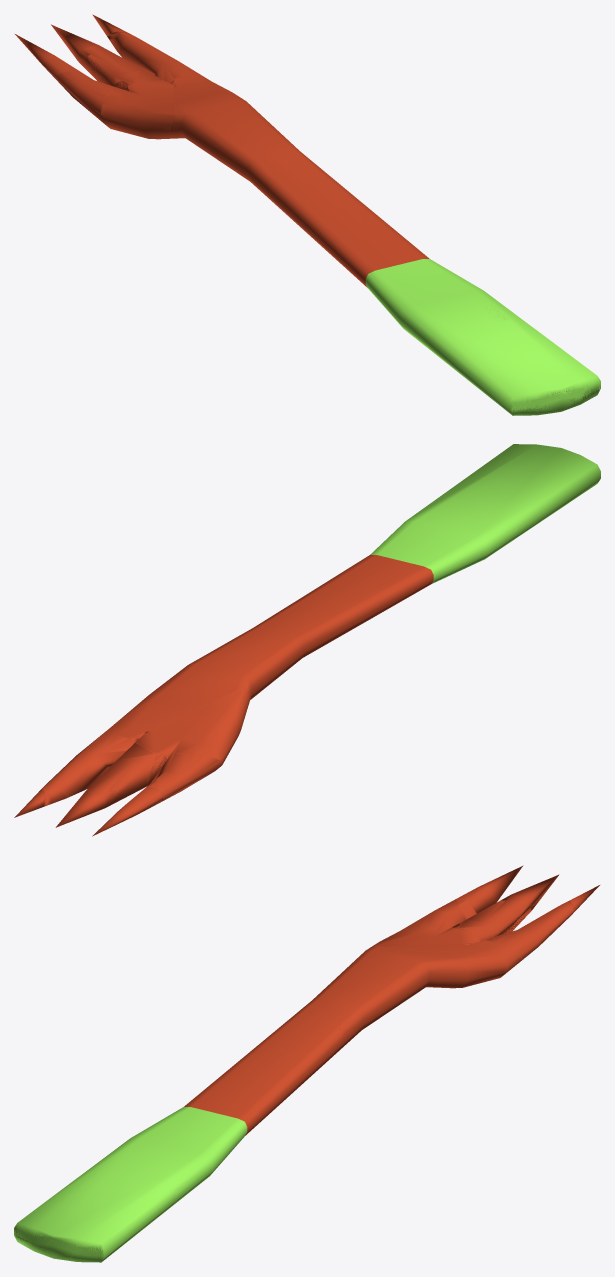
File: P_Fourchette_Colored_Breakable.fbx
The picture shows the model from 3 angles, top to bottom: view 1: azimuth 30°, elevation 25°; view 2: azimuth 150°, elevation 25°; view 3: azimuth 330°, elevation 25°; orthographic projection.
Parts seen in each view (by area): view 1: P_Fourchette_Colored_Breakable, P_Fourchette_Colored_Breakable_cell, P_Fourchette_Colored_Breakable_cell.008, P_Fourchette_Colored_Breakable_cell.006, P_Fourchette_Colored_Breakable_cell.004, P_Fourchette_Colored_Breakable_cell.002, P_Fourchette_Colored_Breakable_cell.005, P_Fourchette_Colored_Breakable_cell.007, P_Fourchette_Colored_Breakable_cell.001; view 2: P_Fourchette_Colored_Breakable, P_Fourchette_Colored_Breakable_cell, P_Fourchette_Colored_Breakable_cell.006, P_Fourchette_Colored_Breakable_cell.008, P_Fourchette_Colored_Breakable_cell.005, P_Fourchette_Colored_Breakable_cell.007, P_Fourchette_Colored_Breakable_cell.002, P_Fourchette_Colored_Breakable_cell.001; view 3: P_Fourchette_Colored_Breakable, P_Fourchette_Colored_Breakable_cell, P_Fourchette_Colored_Breakable_cell.008, P_Fourchette_Colored_Breakable_cell.004, P_Fourchette_Colored_Breakable_cell.006, P_Fourchette_Colored_Breakable_cell.001, P_Fourchette_Colored_Breakable_cell.002.
Part boxes in pixels (left/top/right/bottom): P_Fourchette_Colored_Breakable: left=15, top=26, right=600, bottom=415; P_Fourchette_Colored_Breakable_cell: left=169, top=74, right=321, bottom=188; P_Fourchette_Colored_Breakable_cell.008: left=88, top=33, right=198, bottom=85; P_Fourchette_Colored_Breakable_cell.006: left=101, top=80, right=175, bottom=131; P_Fourchette_Colored_Breakable_cell.004: left=430, top=336, right=600, bottom=415; P_Fourchette_Colored_Breakable_cell.002: left=274, top=201, right=512, bottom=350; P_Fourchette_Colored_Breakable_cell.005: left=57, top=71, right=131, bottom=113; P_Fourchette_Colored_Breakable_cell.007: left=51, top=24, right=99, bottom=75; P_Fourchette_Colored_Breakable_cell.001: left=15, top=34, right=72, bottom=78; P_Fourchette_Colored_Breakable: left=41, top=444, right=600, bottom=834; P_Fourchette_Colored_Breakable_cell: left=100, top=615, right=326, bottom=737; P_Fourchette_Colored_Breakable_cell.006: left=132, top=688, right=248, bottom=759; P_Fourchette_Colored_Breakable_cell.008: left=42, top=735, right=154, bottom=797; P_Fourchette_Colored_Breakable_cell.005: left=144, top=753, right=218, bottom=800; P_Fourchette_Colored_Breakable_cell.007: left=55, top=789, right=122, bottom=827; P_Fourchette_Colored_Breakable_cell.002: left=327, top=528, right=517, bottom=633; P_Fourchette_Colored_Breakable_cell.001: left=92, top=787, right=161, bottom=836; P_Fourchette_Colored_Breakable: left=14, top=875, right=594, bottom=1262; P_Fourchette_Colored_Breakable_cell: left=296, top=940, right=520, bottom=1035; P_Fourchette_Colored_Breakable_cell.008: left=460, top=900, right=572, bottom=958; P_Fourchette_Colored_Breakable_cell.004: left=14, top=1188, right=175, bottom=1262; P_Fourchette_Colored_Breakable_cell.006: left=369, top=925, right=479, bottom=948; P_Fourchette_Colored_Breakable_cell.001: left=456, top=865, right=523, bottom=913; P_Fourchette_Colored_Breakable_cell.002: left=162, top=1051, right=338, bottom=1202.
Size of the model in its own units: 24.62 by 10.61 by 188.
